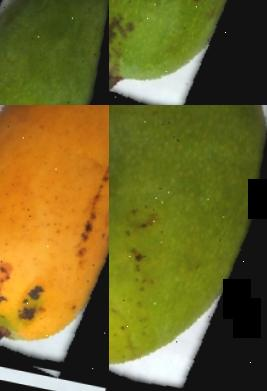Ripe: (0, 105, 109, 383)
Unripe: (109, 105, 267, 391), (109, 0, 267, 105), (0, 0, 109, 105)
